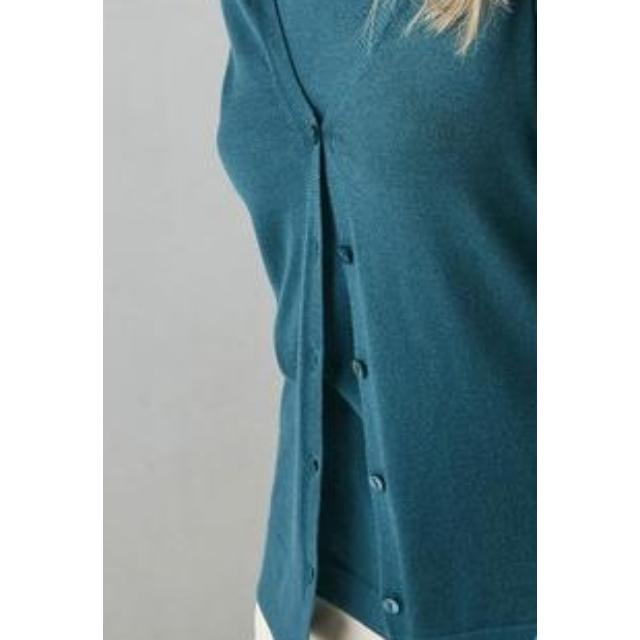silk: (198, 0, 538, 640)
